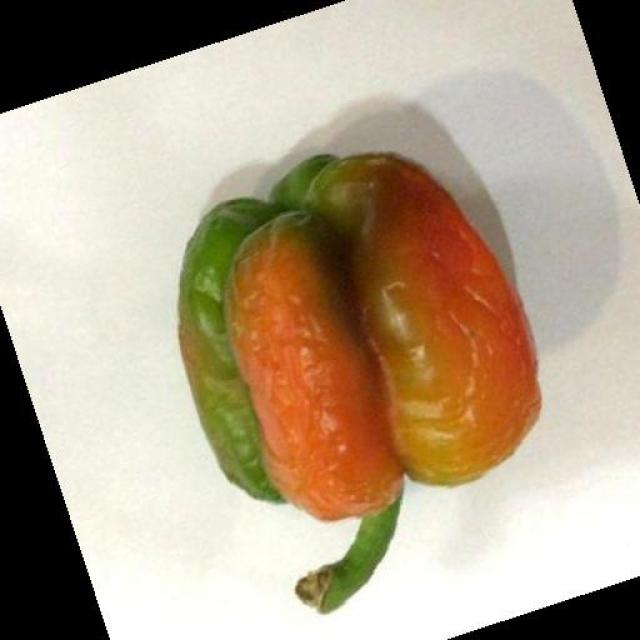Stale_Capsicum: (174, 159, 525, 620)
